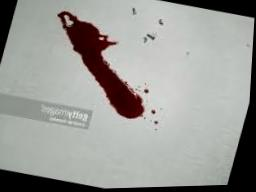Fire: (57, 11, 148, 120)
